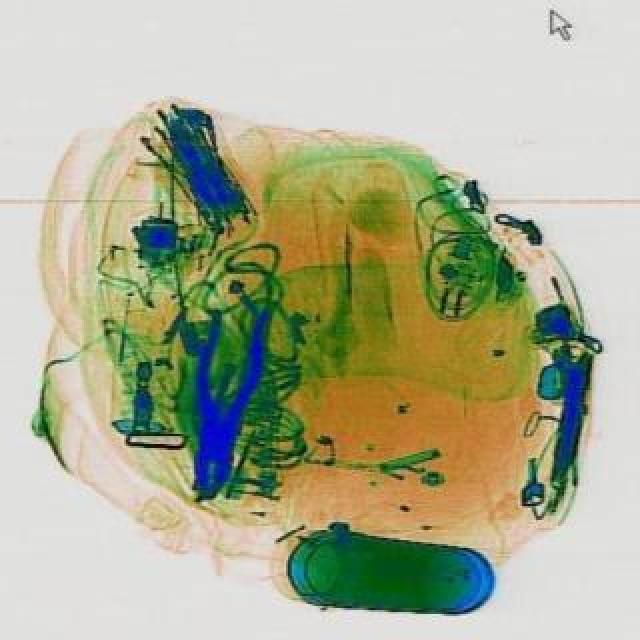wrench: (170, 300, 270, 500)
